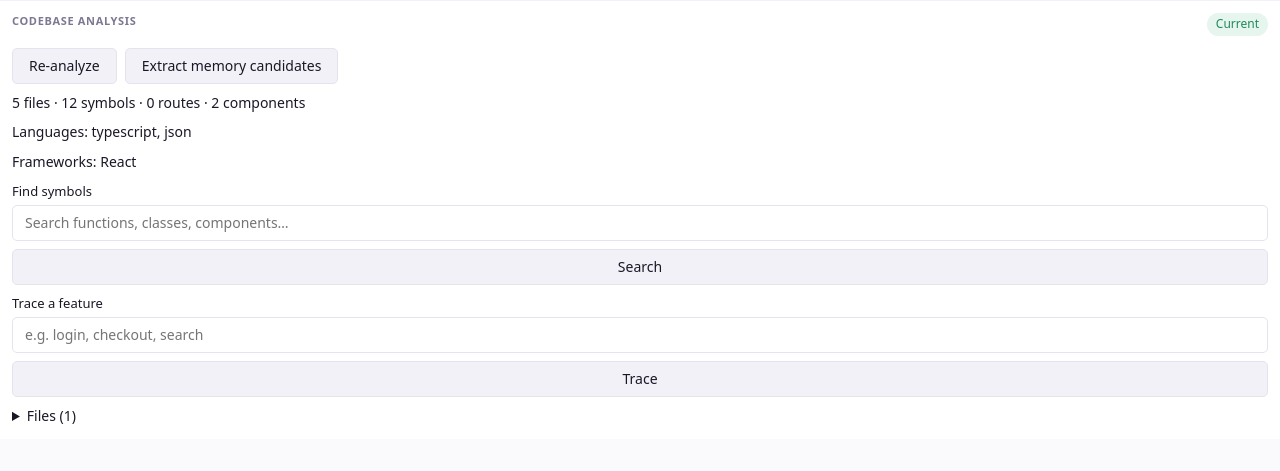
Scenario: CodebasePanel - search and trace › shows an honest search failure
The width and height of the screenshot is (1280, 471).
Expected: the text "Current" is shown, [1207,13,1268,36]
Type "x" into the field labelled "Find symbols". click: (640, 223)
box: [25,212,1255,234]
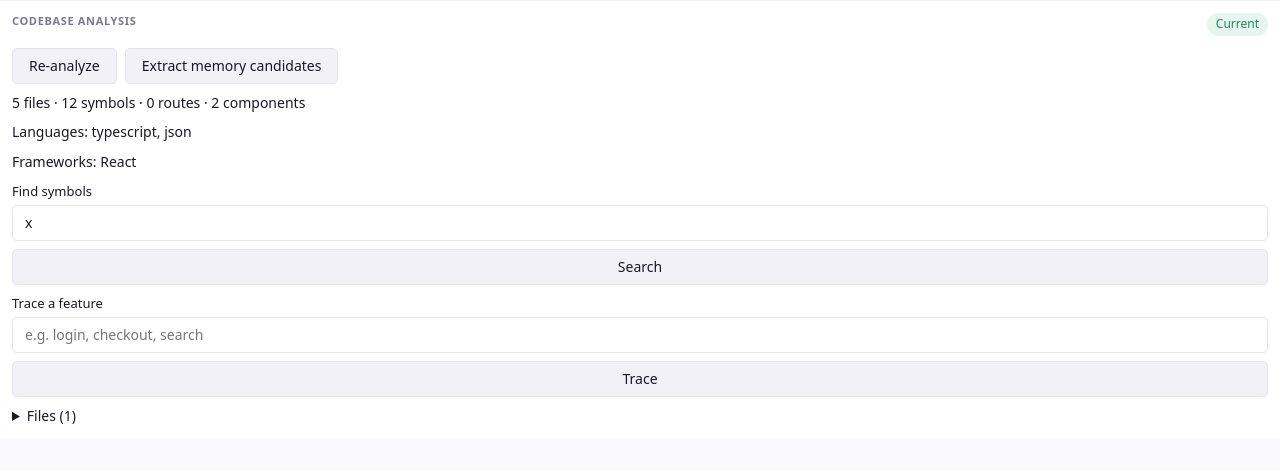
Click the button "Search". click: (640, 267)
box: [12,249,1268,285]
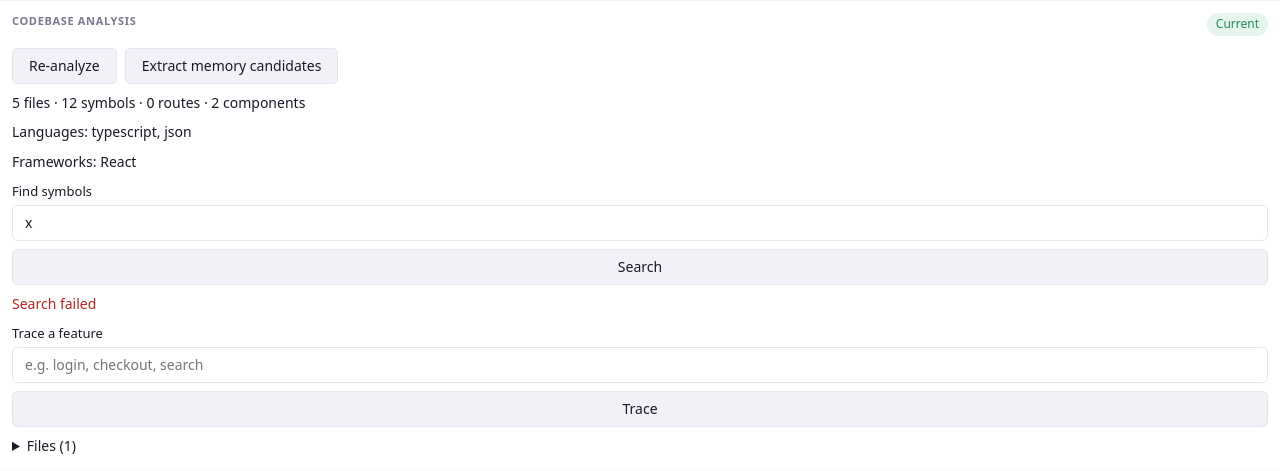
Expected: the text "Search failed" is shown, [12,294,96,313]
